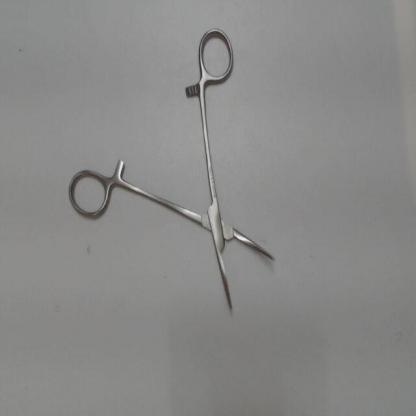Crile Artery Forceps: (65, 20, 282, 317)
